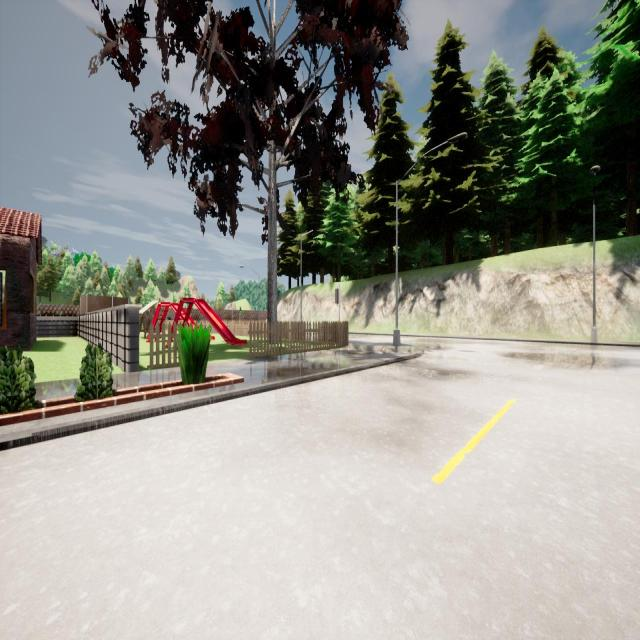traffic_light: (335, 288, 339, 304), (240, 307, 242, 313)
